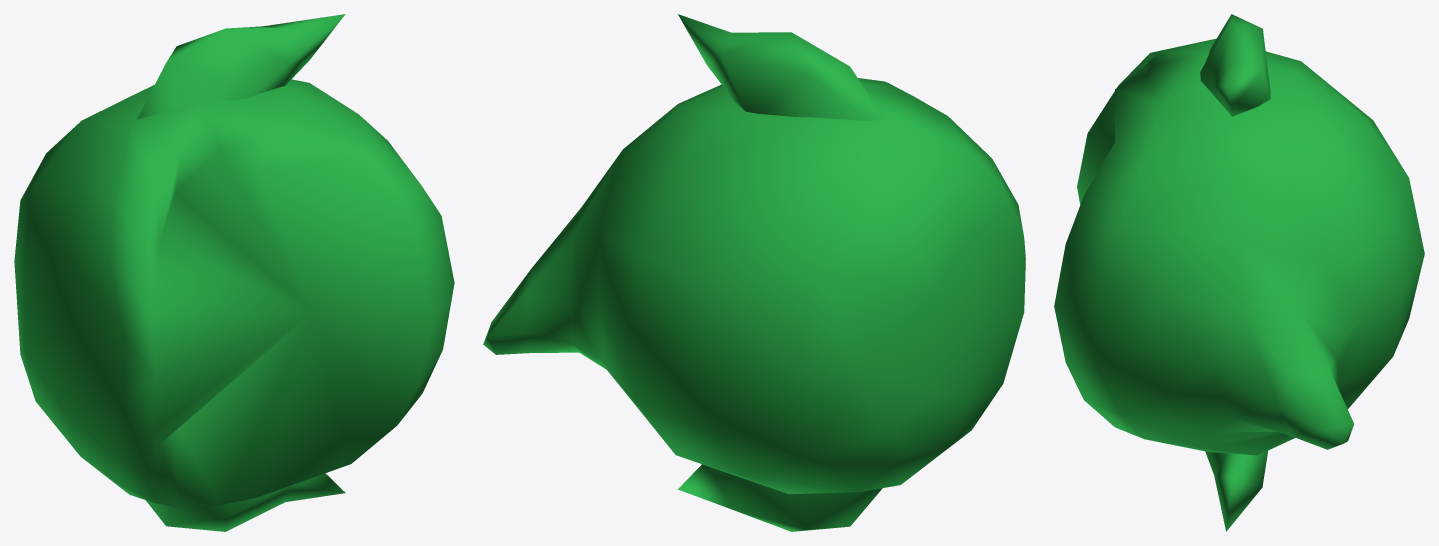
File: hlmt_hood_tinkle.dae
3 views of the same model, side by side, from view 1: azimuth 30°, elevation 25°; view 2: azimuth 150°, elevation 25°; view 3: azimuth 270°, elevation 25° (orthographic). The views are drawn at different scales.
Parts seen in each view (by area): view 1: hlmt_hood_tinkle; view 2: hlmt_hood_tinkle; view 3: hlmt_hood_tinkle.
Boxes of the visible parts, box(x1,y1,x2,y2) form: hlmt_hood_tinkle: box(14, 14, 454, 531); hlmt_hood_tinkle: box(483, 14, 1025, 531); hlmt_hood_tinkle: box(1054, 14, 1424, 531).
Bounding box in the file's own units: 25.26 × 28.24 × 20.28.
Materials: 1 (1 with a texture image).
